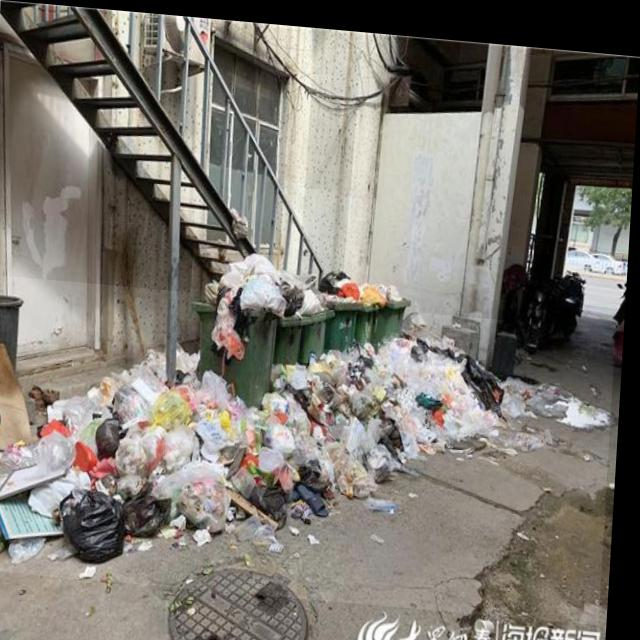garbage: (0, 274, 619, 613)
overflow: (189, 245, 280, 401), (278, 264, 318, 360), (360, 273, 414, 339), (328, 263, 368, 345), (302, 279, 339, 359)
